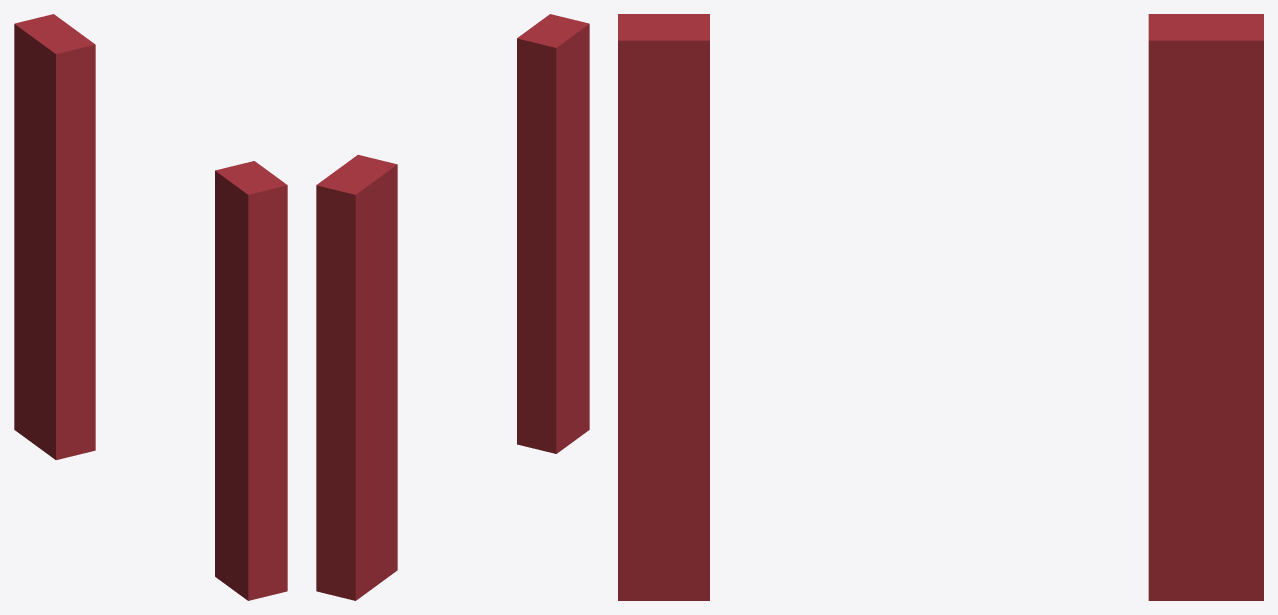
The model's file is Side_Blocks.fbx.
3 renders of one model, left to right at view 1: azimuth 30°, elevation 25°; view 2: azimuth 150°, elevation 25°; view 3: azimuth 270°, elevation 25°, orthographic. The views are drawn at different scales.
Visible parts, largest first — view 1: Cube.005; view 2: Cube.005; view 3: Cube.005.
Boxes of the visible parts, x1,y1,x2,y2 form: Cube.005: (14,14,287,600); Cube.005: (316,14,589,600); Cube.005: (618,14,1263,600).
Size of the model in its own units: 200 by 1961 by 2048.
